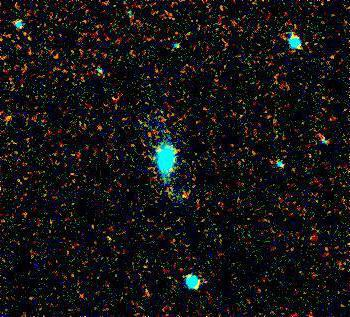star: (167, 187, 197, 217)
